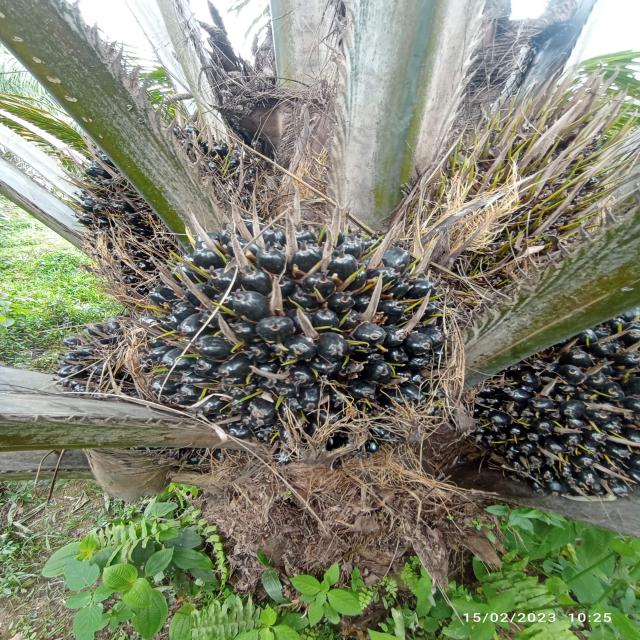fraksi 00: (110, 216, 434, 453), (460, 296, 640, 516)
